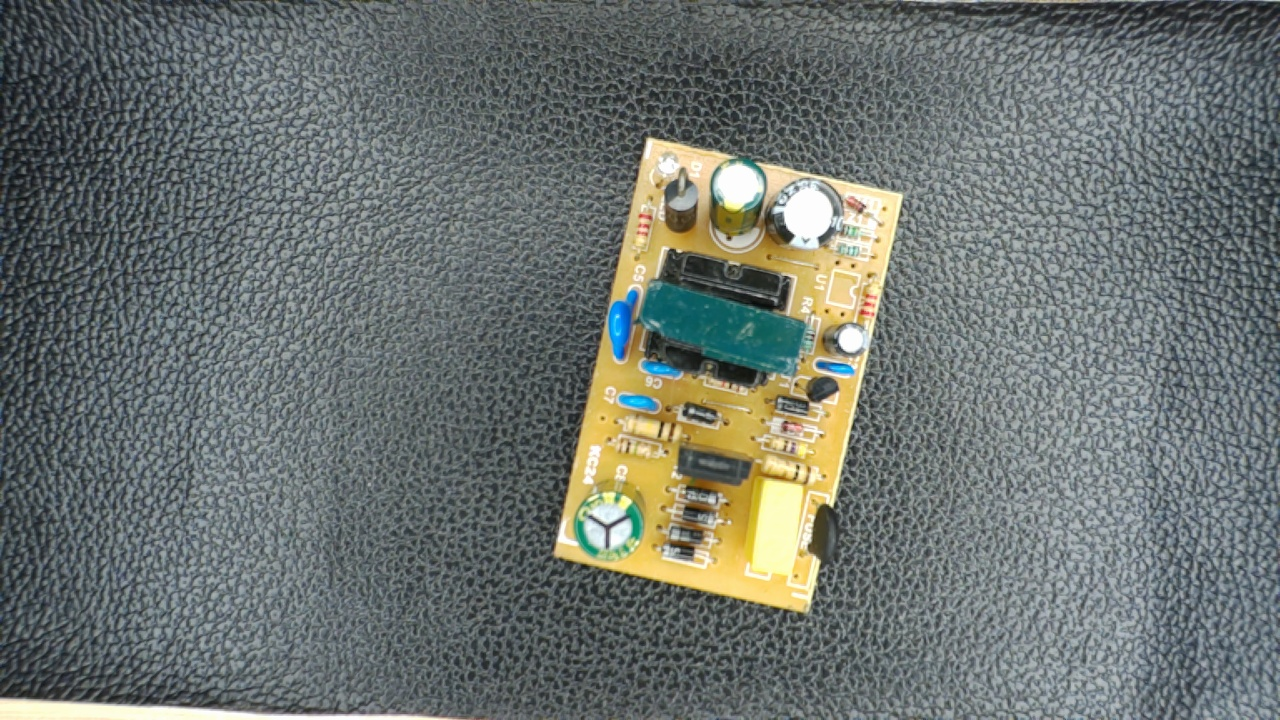fuse: (797, 492, 842, 573)
hv_capacitor: (570, 474, 650, 563)
mov: (600, 279, 645, 363)
